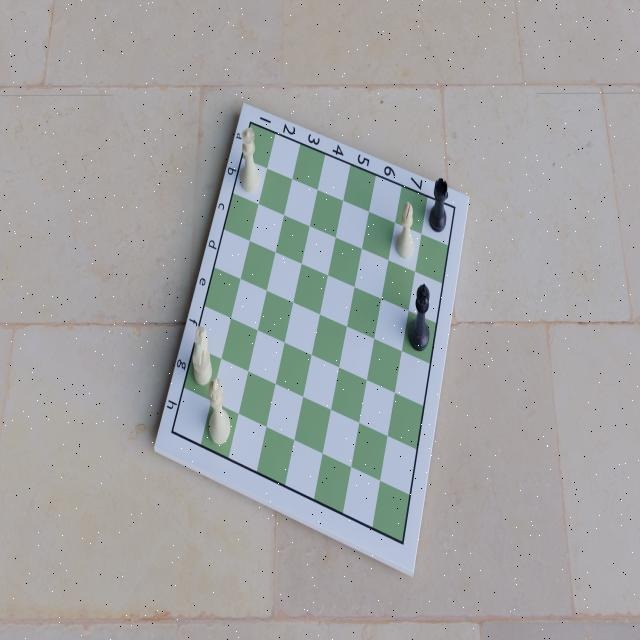black-king: (407, 283, 432, 353)
black-rook: (429, 177, 451, 235)
white-bishop: (396, 201, 416, 261)
white-king: (208, 375, 232, 446)
white-knight: (190, 325, 214, 390)
white-queen: (240, 125, 260, 195)
